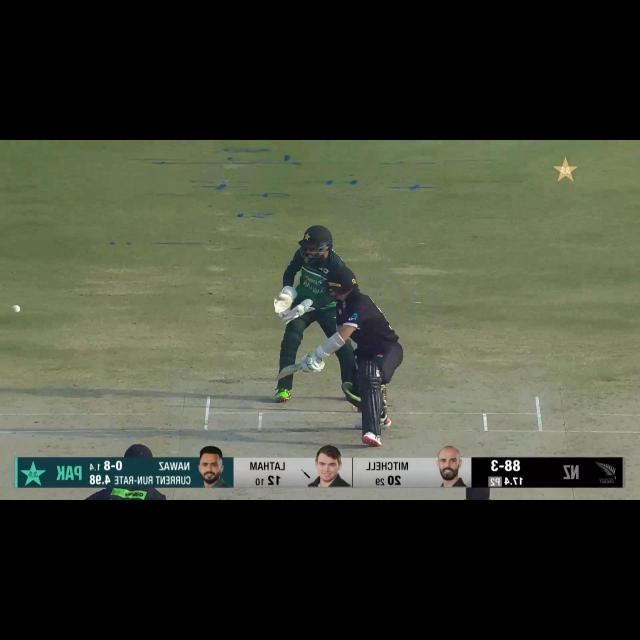bat: (272, 361, 307, 383)
toe: (274, 371, 288, 380)
